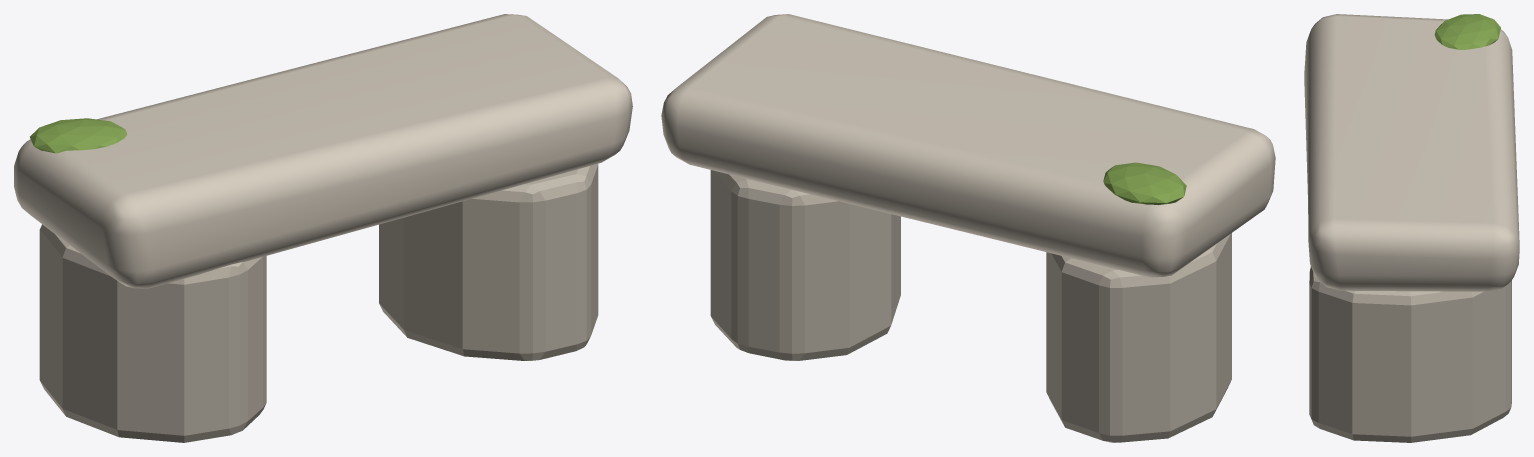
The model's file is prop_stone_bench.glb.
3 views of the same model, side by side, from view 1: azimuth 30°, elevation 25°; view 2: azimuth 150°, elevation 25°; view 3: azimuth 270°, elevation 25° (orthographic). The views are drawn at different scales.
Parts seen in each view (by area): view 1: stone_bench_seat, stone_bench_leg_l, stone_bench_leg_r, stone_bench_moss; view 2: stone_bench_seat, stone_bench_leg_l, stone_bench_leg_r, stone_bench_moss; view 3: stone_bench_seat, stone_bench_leg_r, stone_bench_moss.
Boxes of the visible parts, x1=… form: stone_bench_seat: x1=14, y1=14, x2=632, y2=288; stone_bench_leg_l: x1=39, y1=224, x2=266, y2=442; stone_bench_leg_r: x1=379, y1=164, x2=598, y2=360; stone_bench_moss: x1=30, y1=118, x2=127, y2=153; stone_bench_seat: x1=661, y1=14, x2=1275, y2=277; stone_bench_leg_l: x1=1046, y1=233, x2=1231, y2=442; stone_bench_leg_r: x1=710, y1=170, x2=900, y2=360; stone_bench_moss: x1=1103, y1=162, x2=1186, y2=205; stone_bench_seat: x1=1304, y1=14, x2=1519, y2=291; stone_bench_leg_r: x1=1309, y1=267, x2=1511, y2=442; stone_bench_moss: x1=1434, y1=14, x2=1500, y2=49.
Size of the model in its own units: 1.32 by 0.627 by 0.5359.
